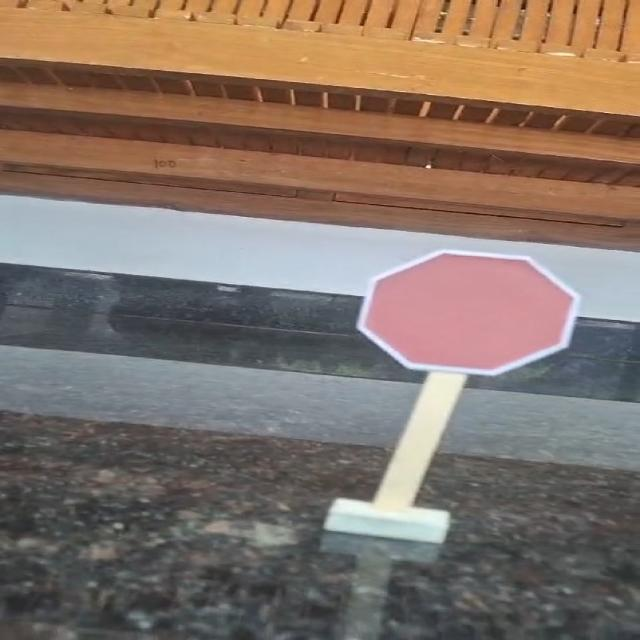Stop: (342, 243, 588, 380)
